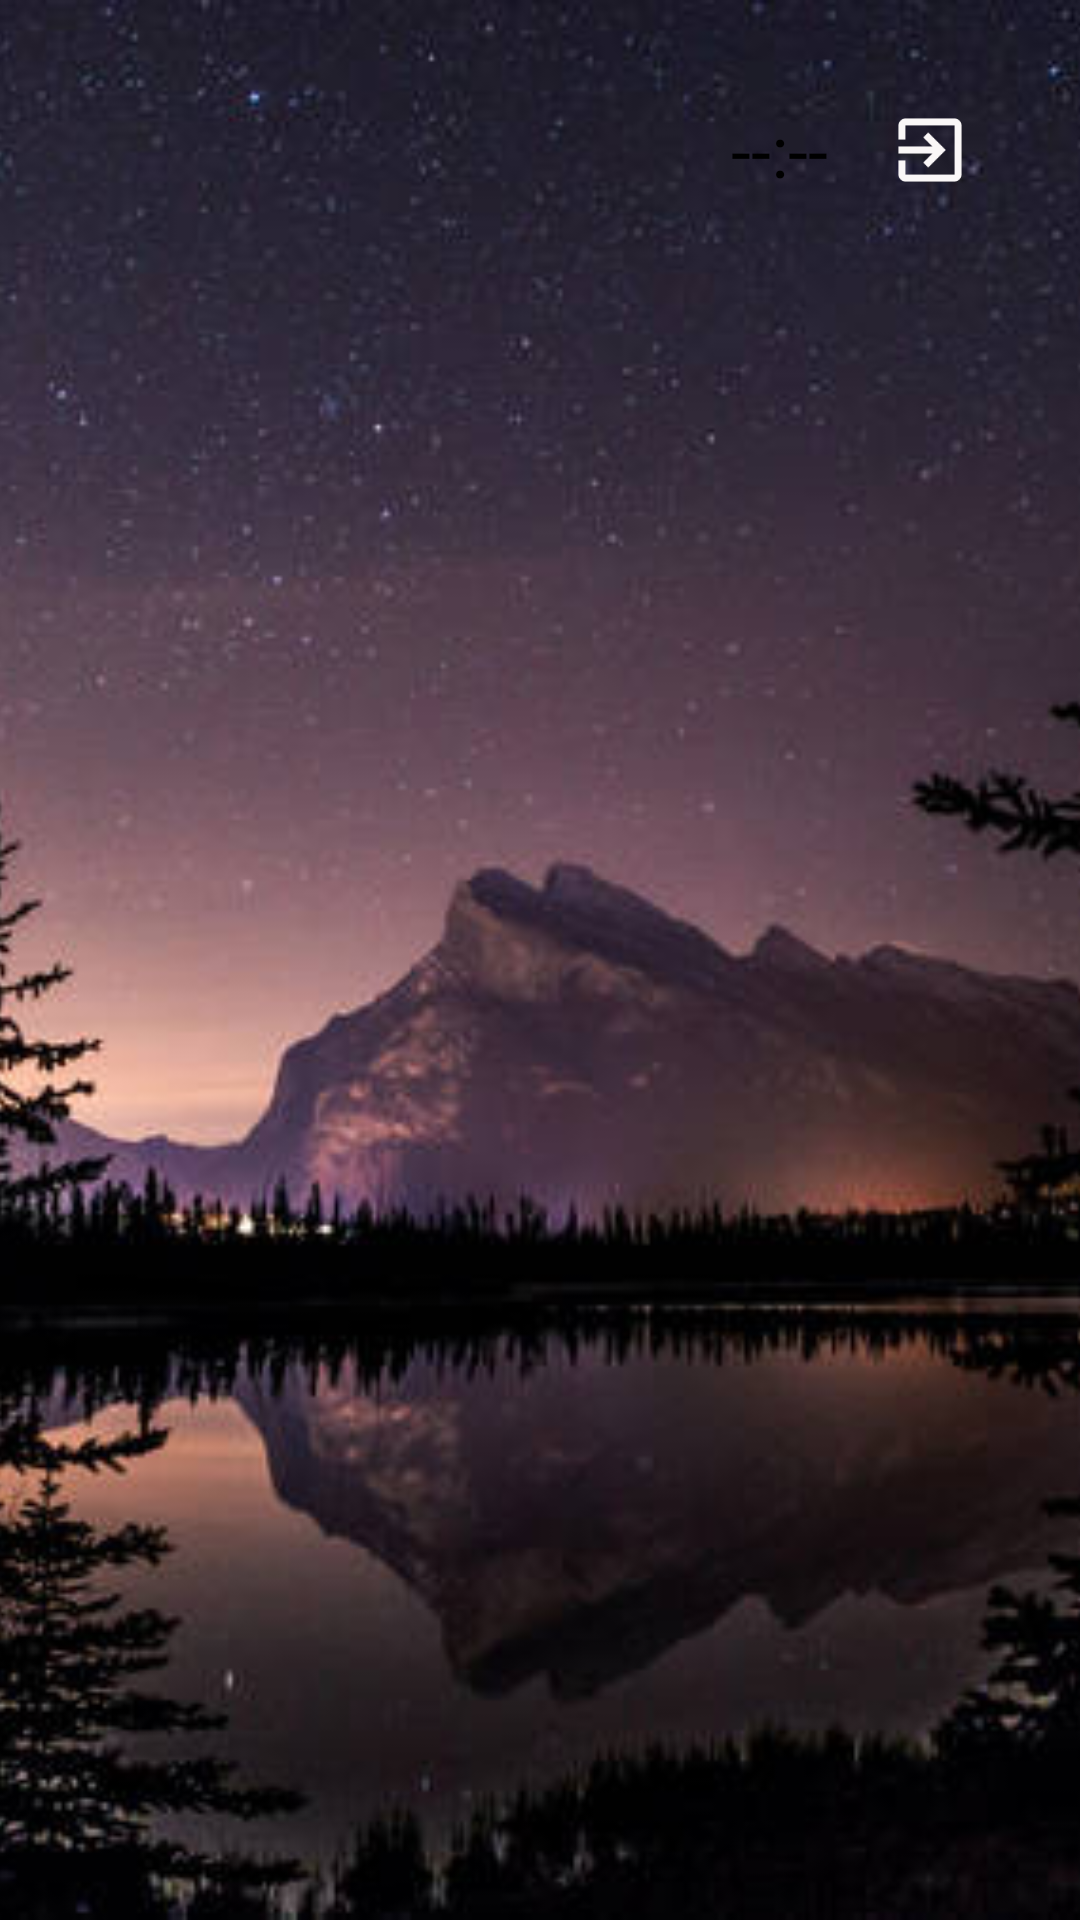

Where to tap for icons on this 1080w x 1920h app screen, as (x=x, y=y):
exit: (x=939, y=161)
